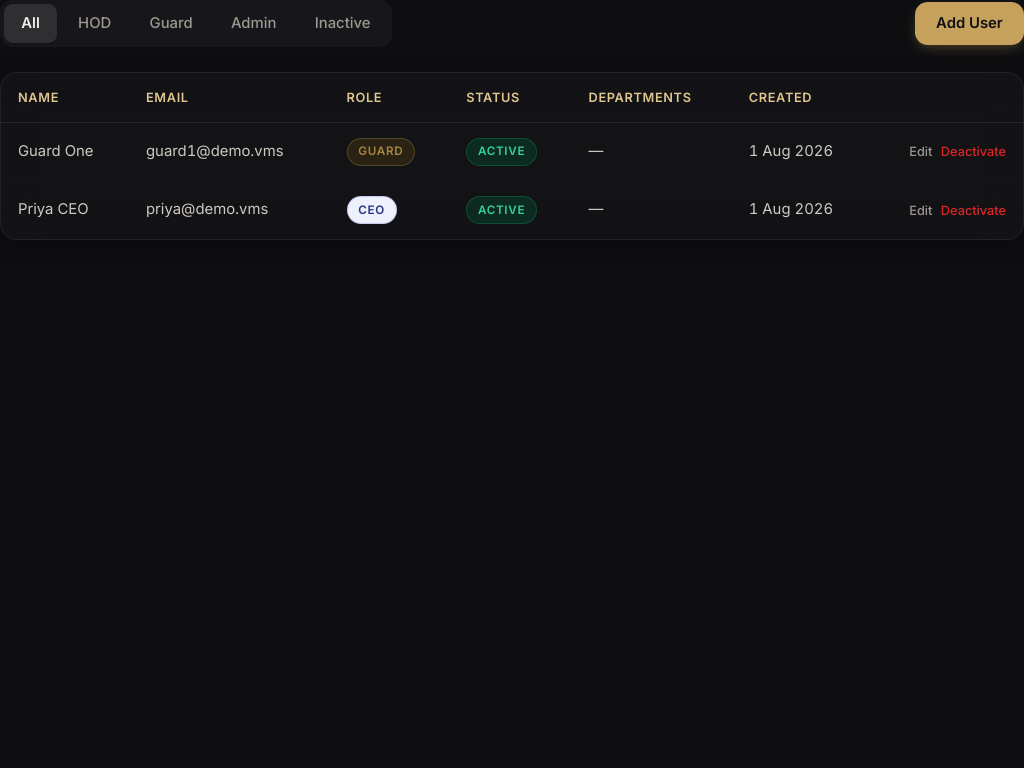
Test: Add User — the four approval offices are offered › picking a vacant office warns with no current-holder sentence
expect the text "Guard One" is shown: met, box [1,123,129,181]
Click the button "Add User" at coordinates (969, 23), box [915,2,1023,45]
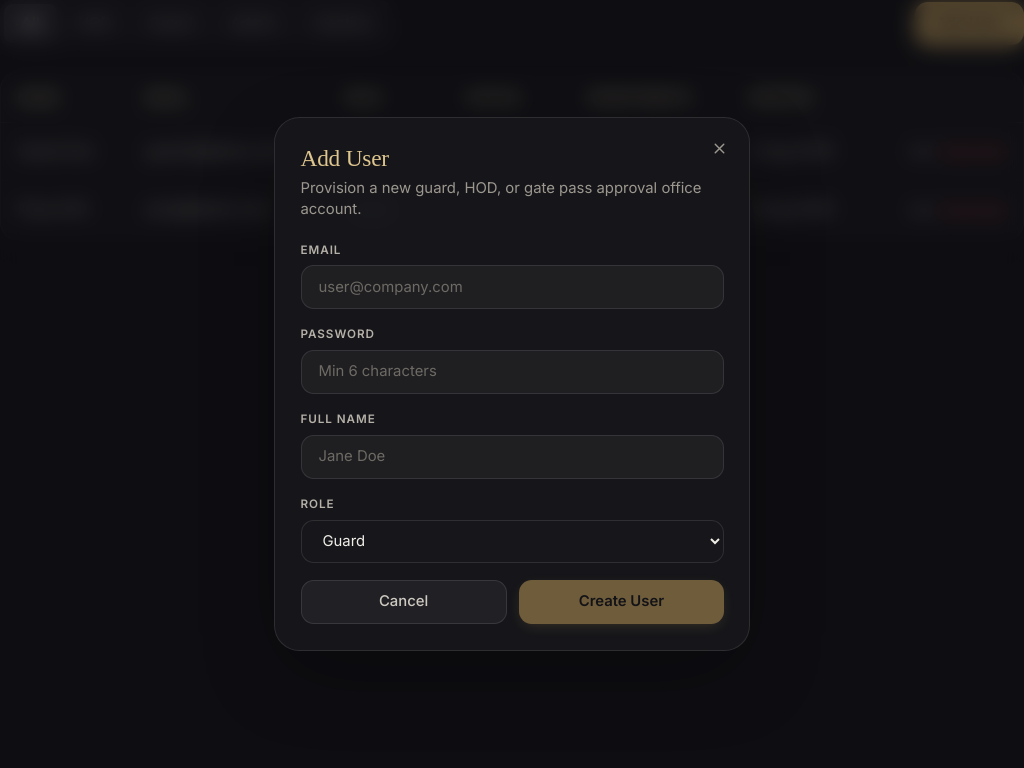
Select "COO" in the dropdown labelled "Role" at coordinates (512, 541), box [300,520,724,563]
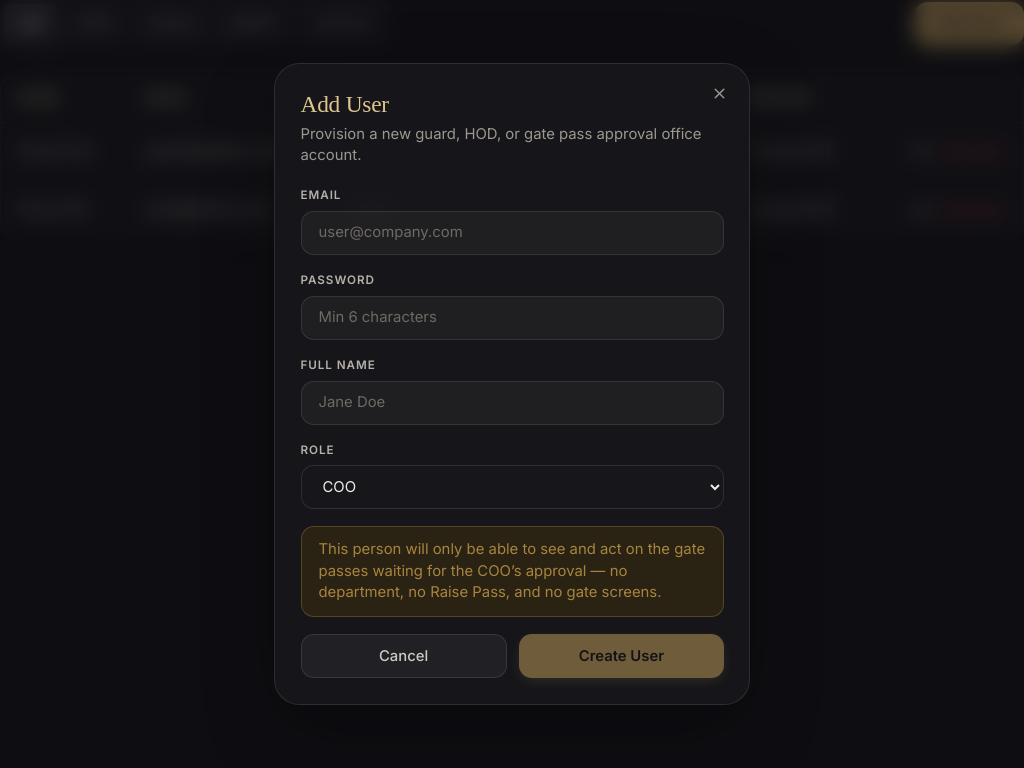
expect the text "only be able to see and act on the gate passes" is shown: met, box [318,540,705,580]
